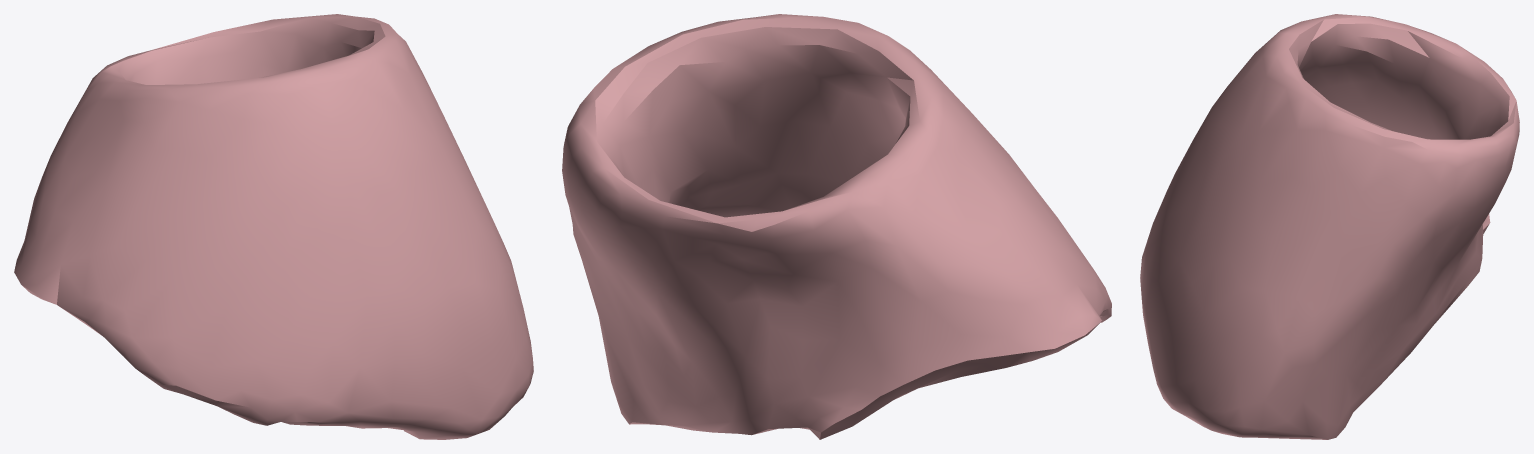
Rendered from fma49208_mm538.glb.
3 views of the same model, side by side, from view 1: azimuth 30°, elevation 25°; view 2: azimuth 150°, elevation 25°; view 3: azimuth 270°, elevation 25° (orthographic). The views are drawn at different scales.
Visible parts, largest first — view 1: FMA49208_MM538; view 2: FMA49208_MM538; view 3: FMA49208_MM538.
Boxes of the visible parts, x1=… form: FMA49208_MM538: x1=14, y1=14, x2=533, y2=439; FMA49208_MM538: x1=562, y1=14, x2=1111, y2=439; FMA49208_MM538: x1=1140, y1=14, x2=1519, y2=439.
Bounding box in the file's own units: 0.0507 × 0.0389 × 0.0413.
